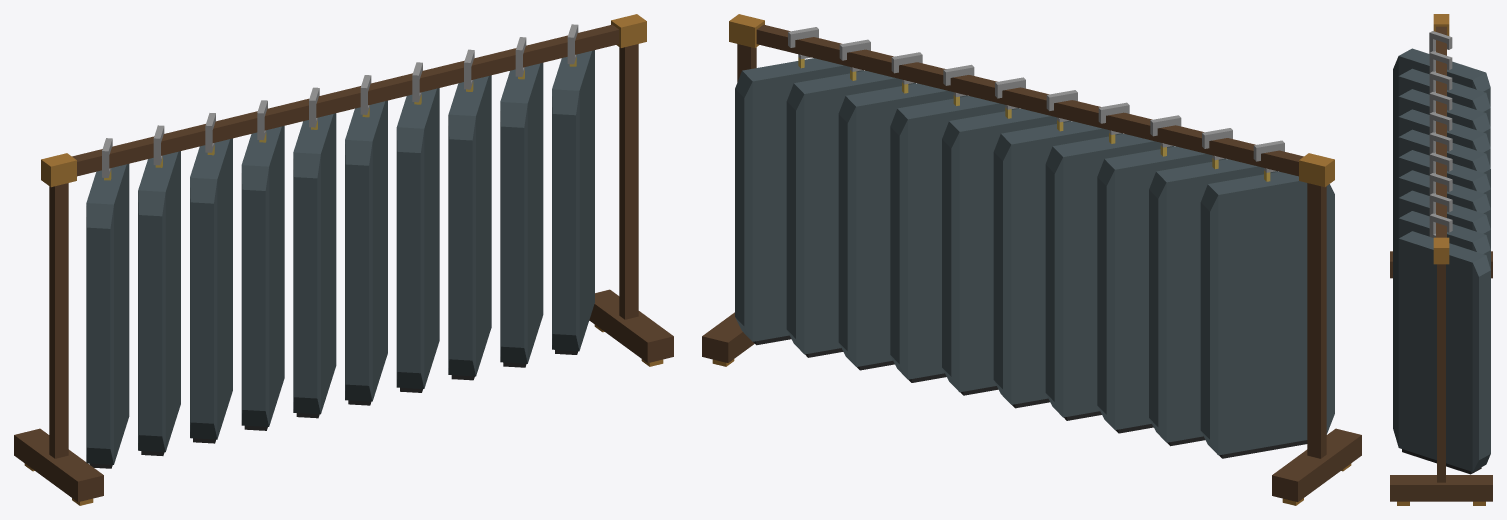
Rendered from stelth_rack_B.fbx.
The picture shows the model from 3 angles, left to right: view 1: azimuth 30°, elevation 25°; view 2: azimuth 150°, elevation 25°; view 3: azimuth 270°, elevation 25°; orthographic projection. The views are drawn at different scales.
Parts seen in each view (by area): view 1: Cube.005, B coat rack; view 2: Cube.005, B coat rack; view 3: Cube.005, B coat rack.
Part boxes in pixels (x1=…): Cube.005: x1=86, y1=24, x2=594, y2=468; B coat rack: x1=14, y1=14, x2=673, y2=505; Cube.005: x1=735, y1=27, x2=1334, y2=458; B coat rack: x1=702, y1=14, x2=1361, y2=505; Cube.005: x1=1393, y1=31, x2=1490, y2=474; B coat rack: x1=1390, y1=14, x2=1492, y2=505.
Bounding box in the file's own units: 693 × 364 × 129.
